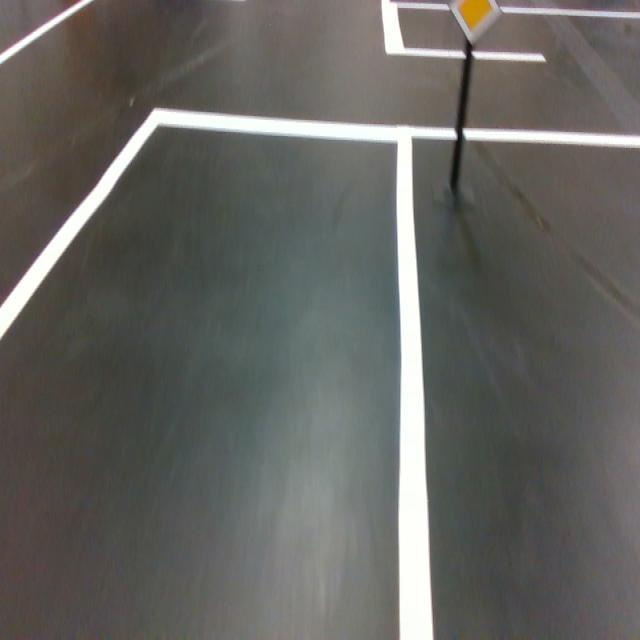priority-sign: (446, 0, 504, 47)
